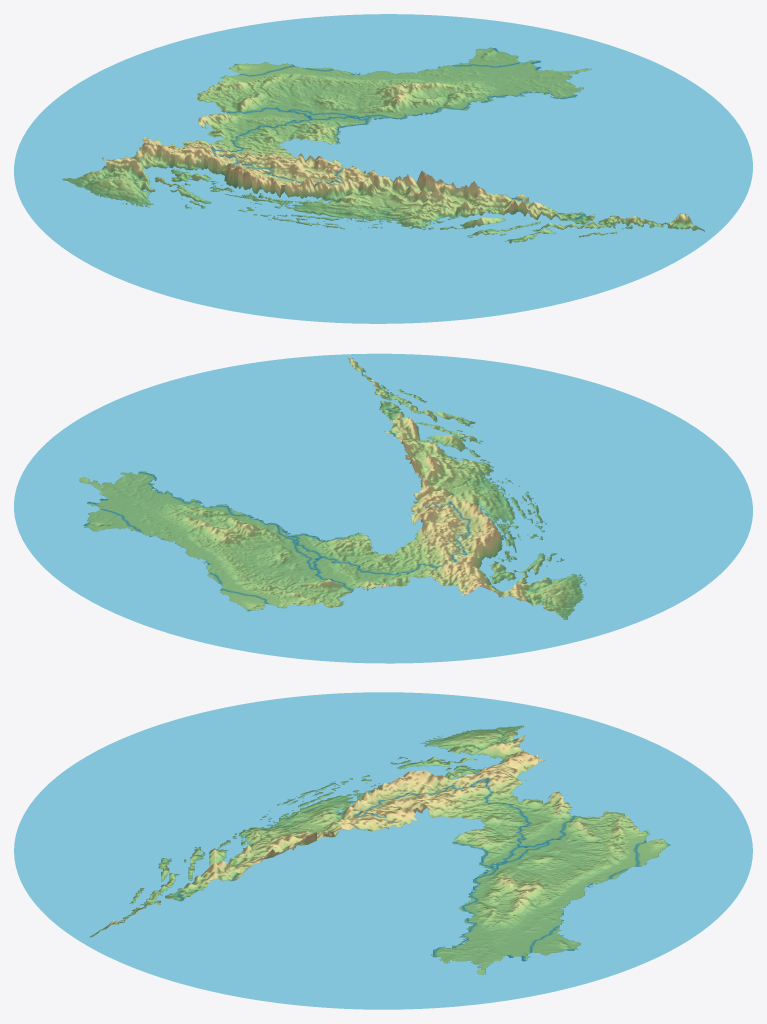
The model's file is HRV-terrain.glb.
The picture shows the model from 3 angles, top to bottom: view 1: azimuth 30°, elevation 25°; view 2: azimuth 150°, elevation 25°; view 3: azimuth 270°, elevation 25°; orthographic projection.
Visible parts, largest first — view 1: Relevo com hidrografia; view 2: Relevo com hidrografia; view 3: Relevo com hidrografia.
Part boxes in pixels (bbox=[...]): Relevo com hidrografia: bbox=[14, 14, 752, 323]; Relevo com hidrografia: bbox=[14, 353, 752, 663]; Relevo com hidrografia: bbox=[14, 692, 752, 1009].
Size of the model in its own units: 2.03 by 0.0634 by 2.
2 materials, 1 textured.
